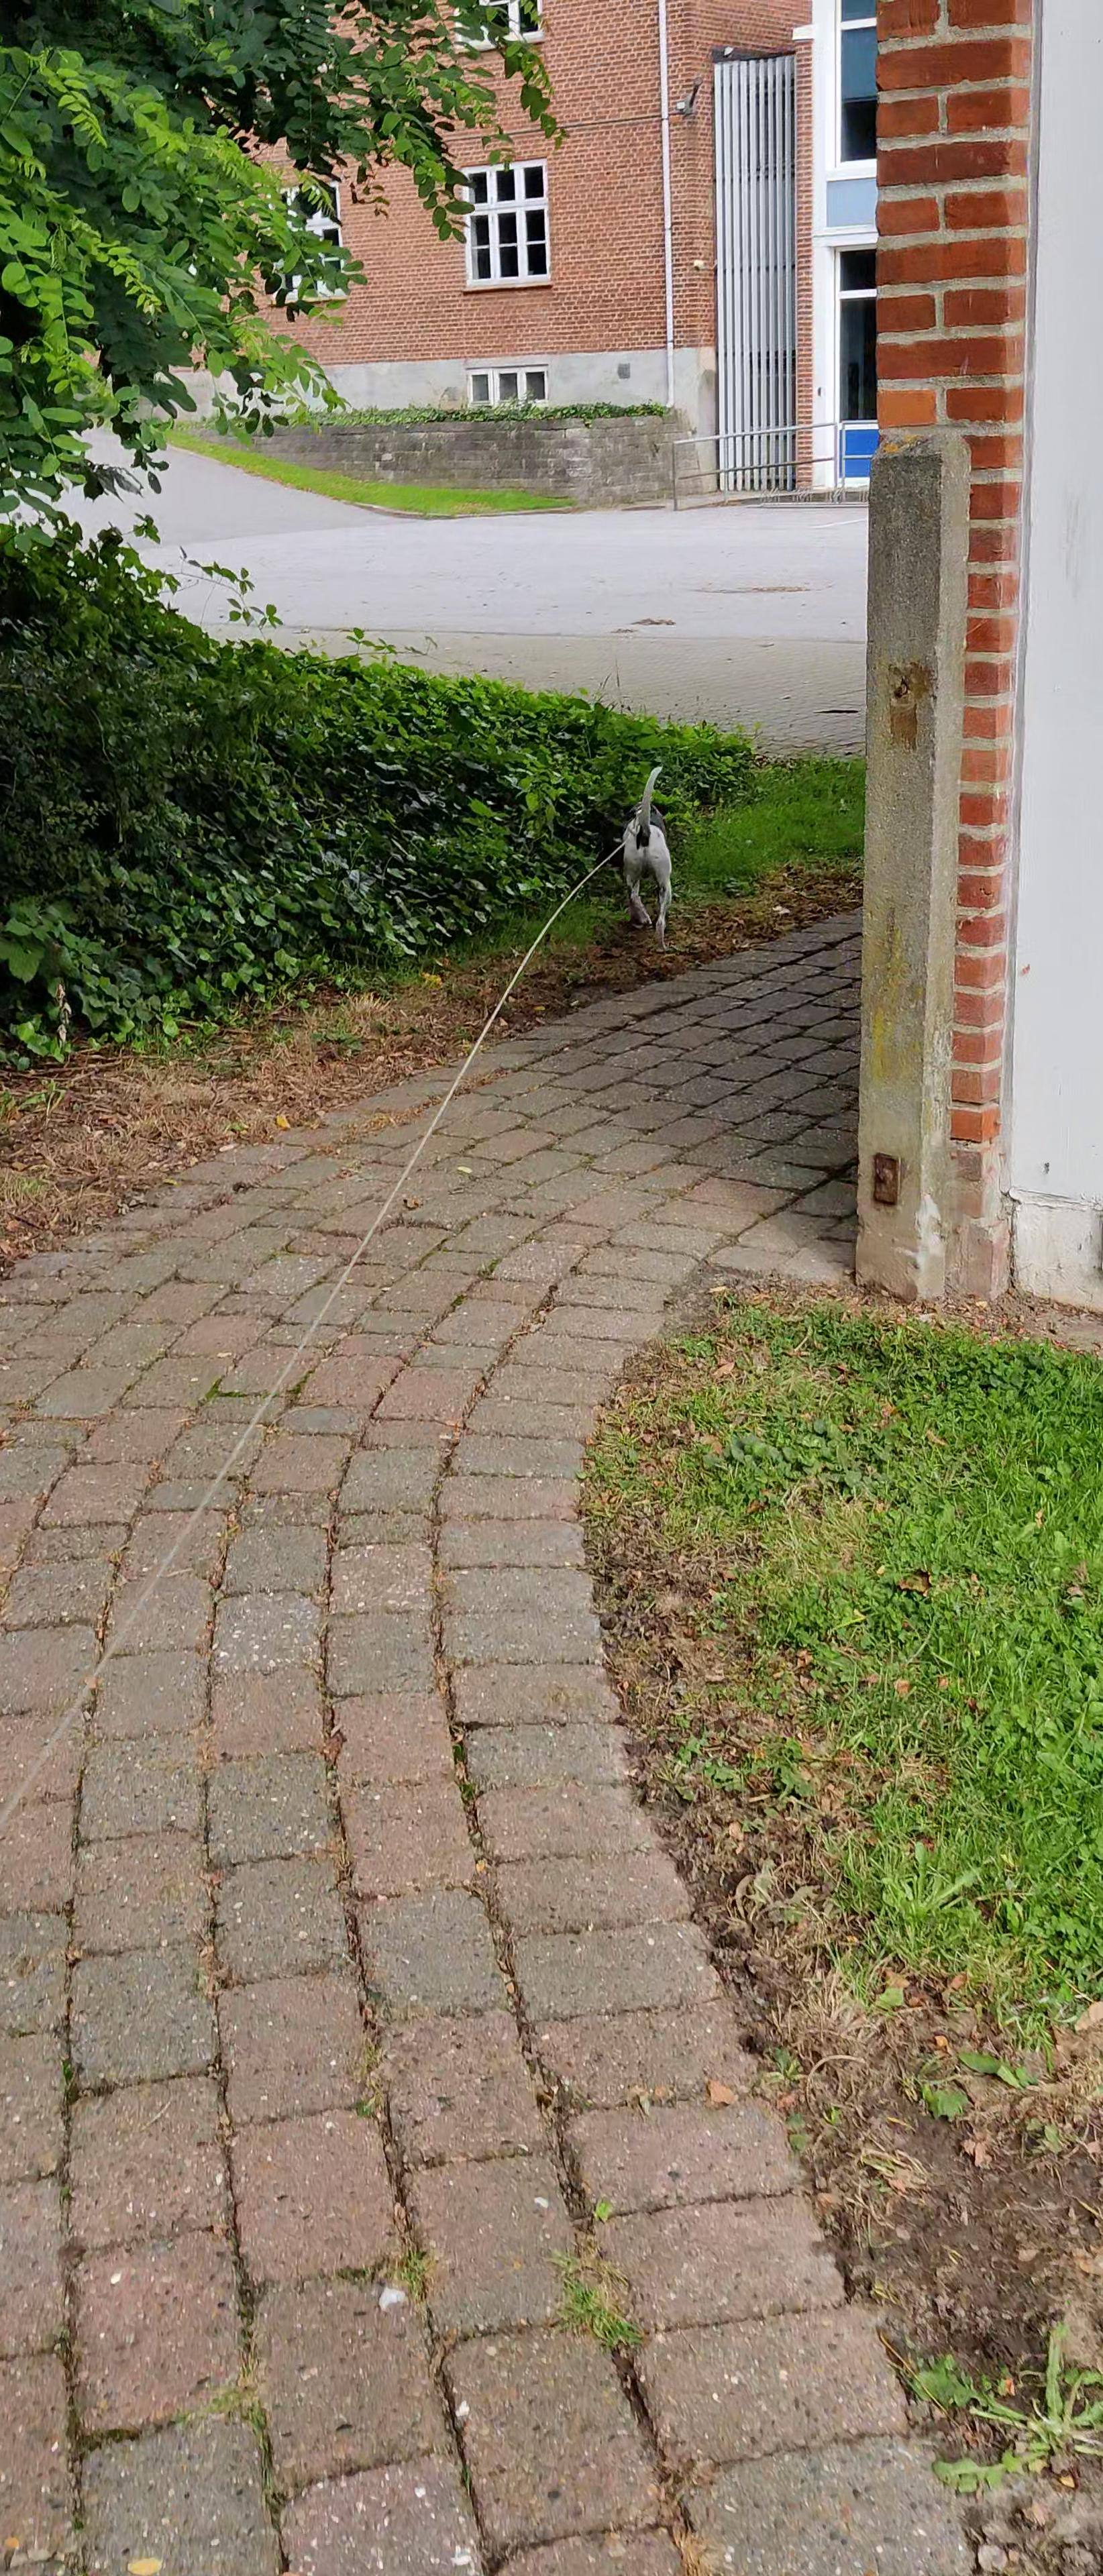Dog: (620, 766, 676, 953)
